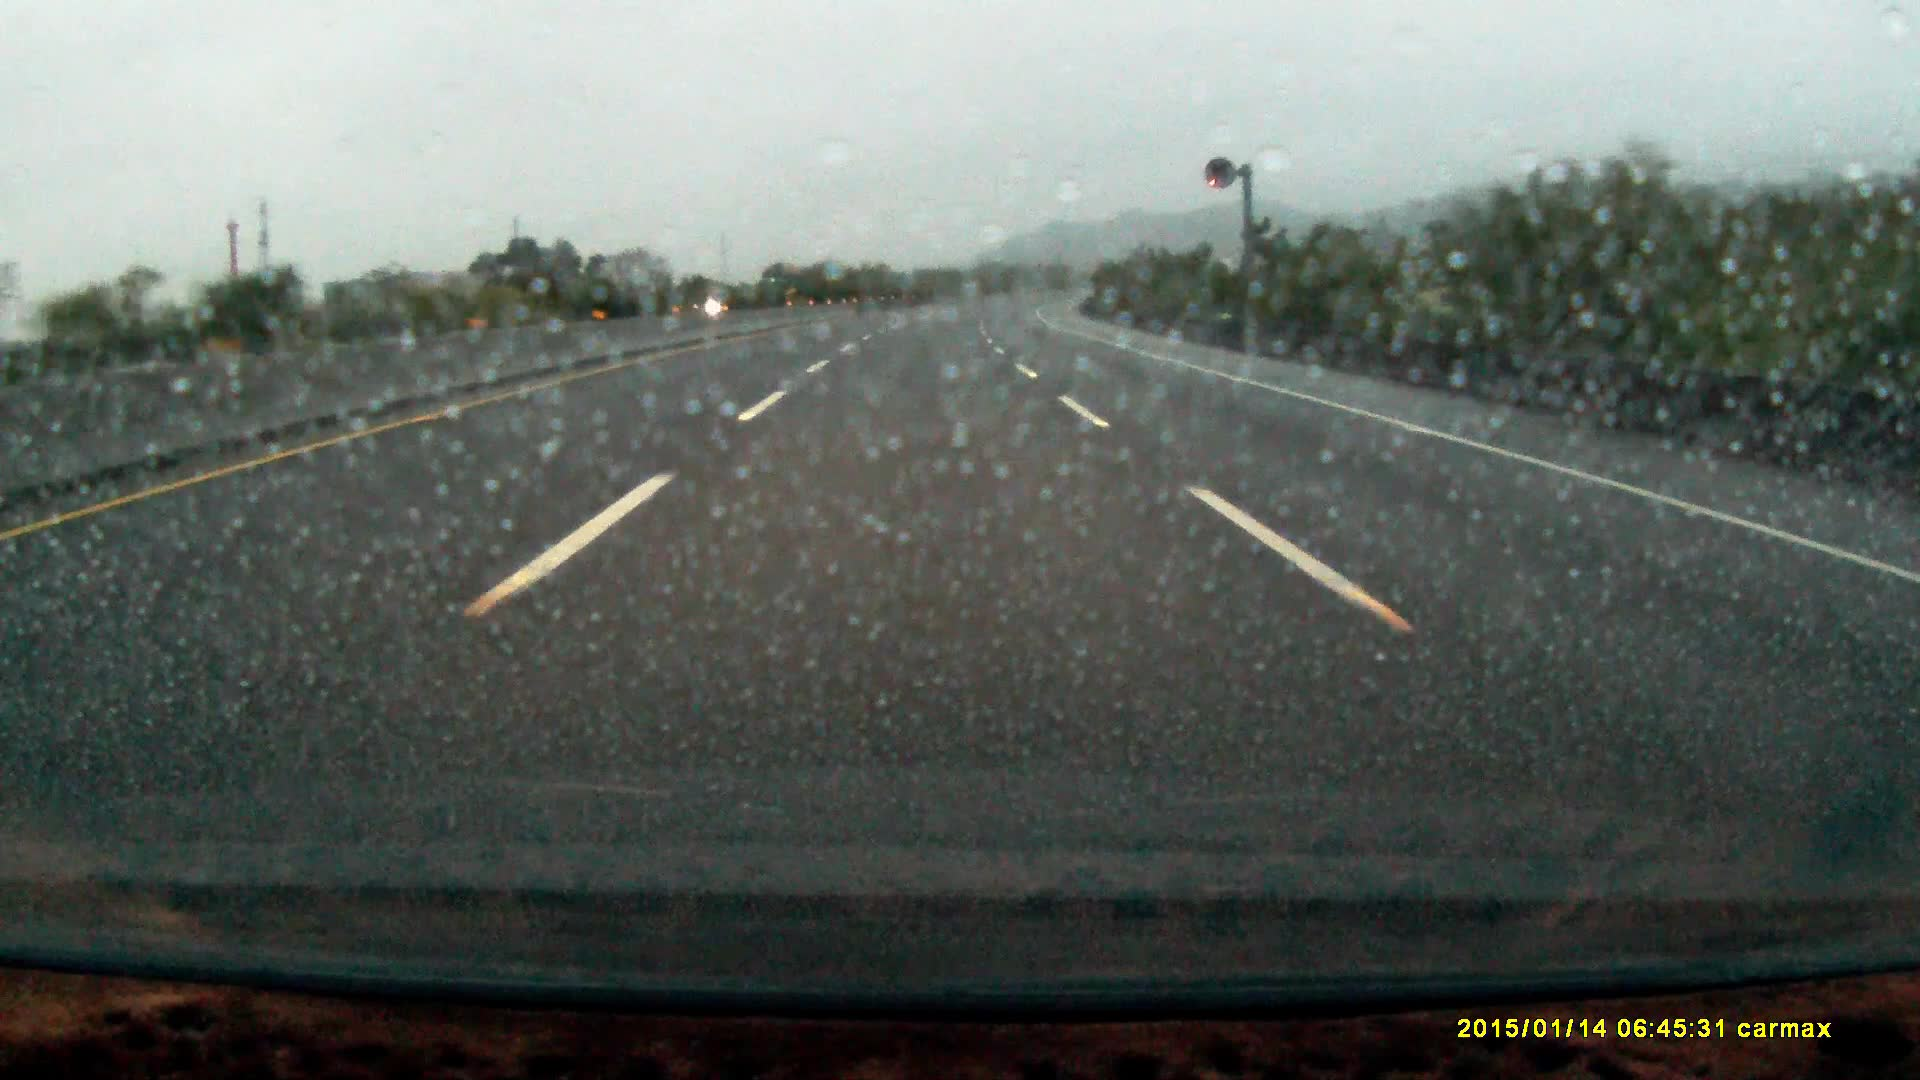vehicle: (761, 262, 803, 305)
